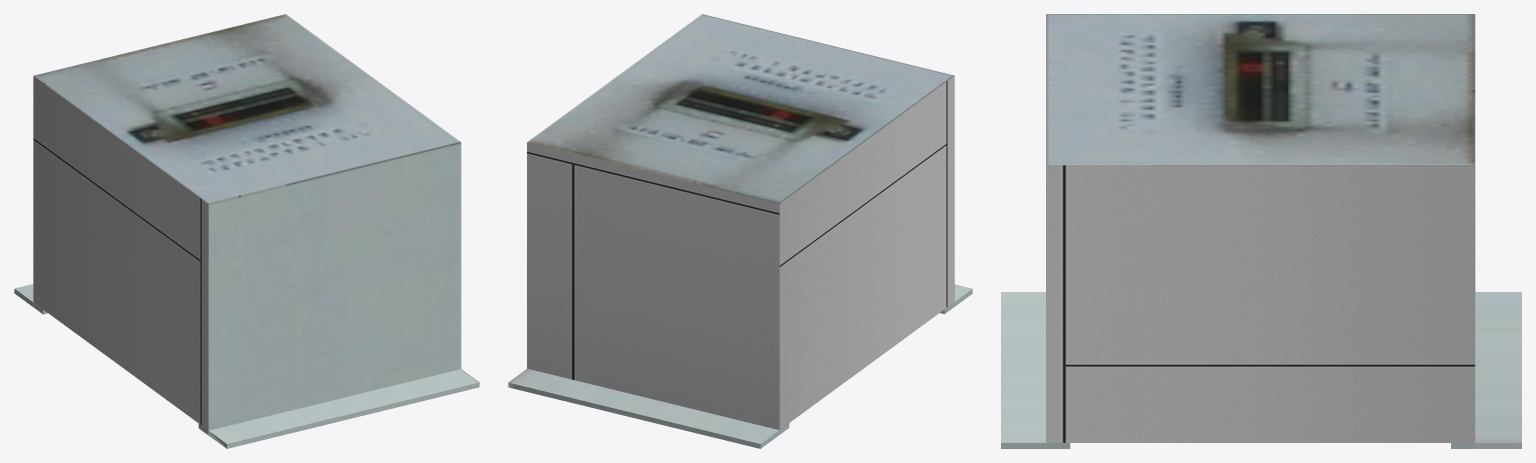
File: jsq001-geode.glb
3 renders of one model, left to right at view 1: azimuth 30°, elevation 25°; view 2: azimuth 150°, elevation 25°; view 3: azimuth 270°, elevation 25°, orthographic. The views are drawn at different scales.
Visible parts, largest first — view 1: Node; view 2: Node; view 3: Node.
Boxes of the visible parts, x1,y1,x2,y2 form: Node: (14, 14, 479, 448); Node: (508, 14, 972, 448); Node: (1001, 14, 1521, 448).
Size of the model in its own units: 0.2341 by 0.2051 by 0.3411.
Materials: 1 (1 with a texture image).
